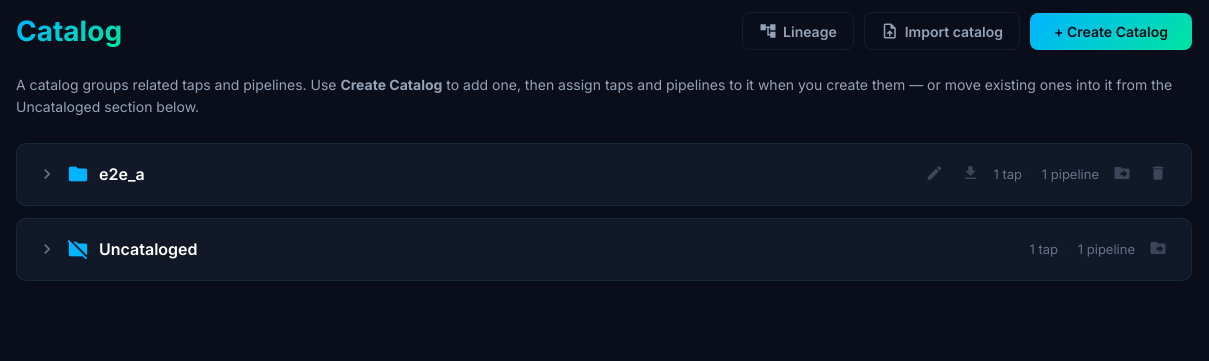
Test: DataCatalogComponent — catalog rename and delete › rename with affectedKeys shows a persistent, dismissable affected-keys banner
This screenshot has width=1209, height=361.
Expected: the element with class "catalog-card" showing "e2e_a 1 tap · 1 pipeline" is shown, [16,143,1192,206]
Click the button with class "rename-catalog-btn".
click(935, 174)  # box [922,160,948,189]
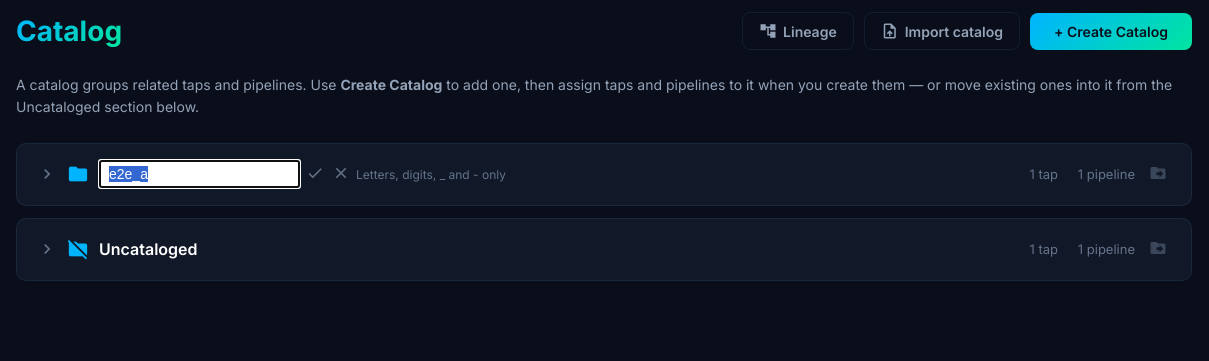
Expected: the field with class "rename-catalog-input" is shown
Replace the text in the field with class "rename-catalog-input" with "e2e_c" at (200, 174), box [99,160,300,188]
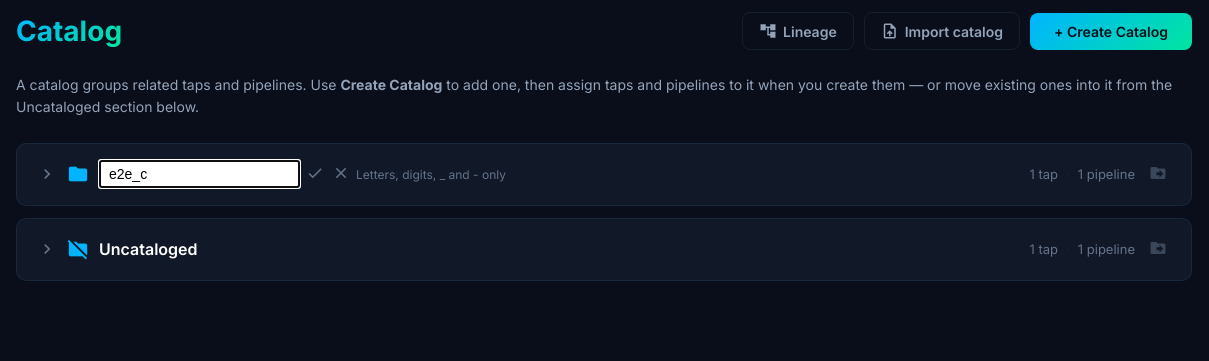
Press Enter in the field with class "rename-catalog-input", box [99,160,300,188]
Wait 10000 ms
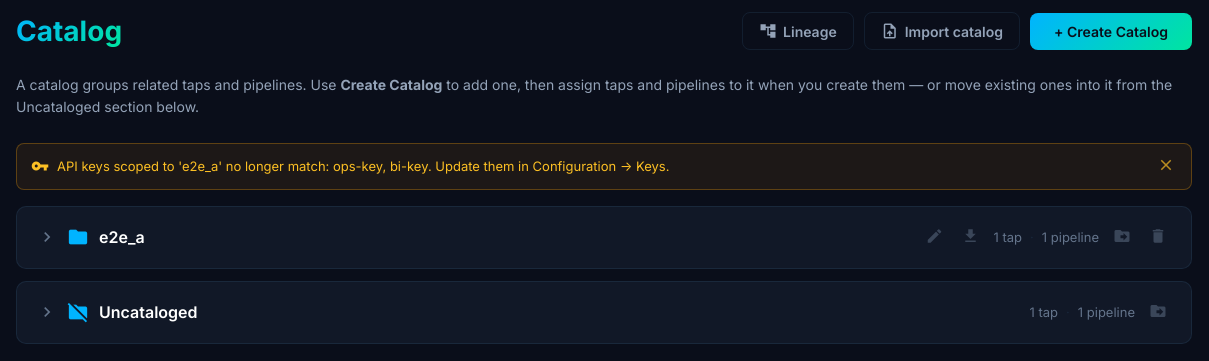
Expected: the element with class "affected-keys-banner" shows "API keys scoped to 'e2e_a' no longer match", [57,158,669,174]
Expected: the element with class "affected-keys-banner" shows "ops-key", [57,158,669,174]
Expected: the element with class "affected-keys-banner" shows "bi-key", [57,158,669,174]
Click the button named "Dismiss".
click(1166, 166)  # box [1155,154,1177,179]
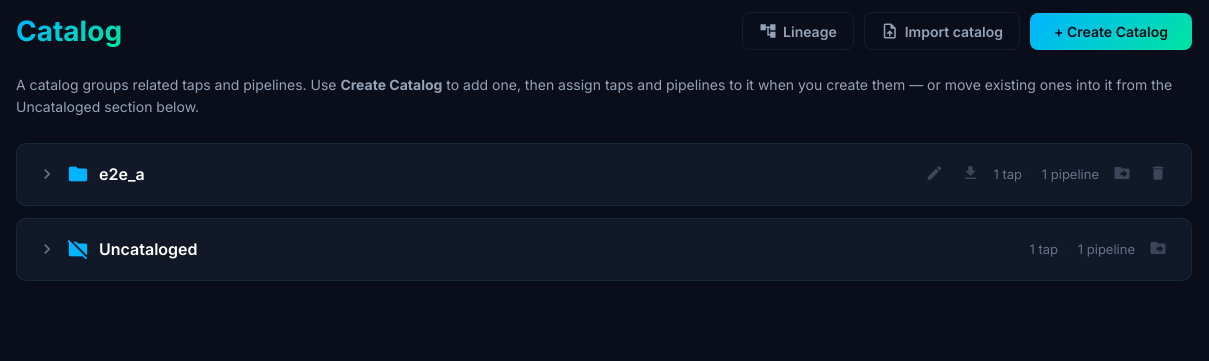
Expected: the element with class "affected-keys-banner" is gone
